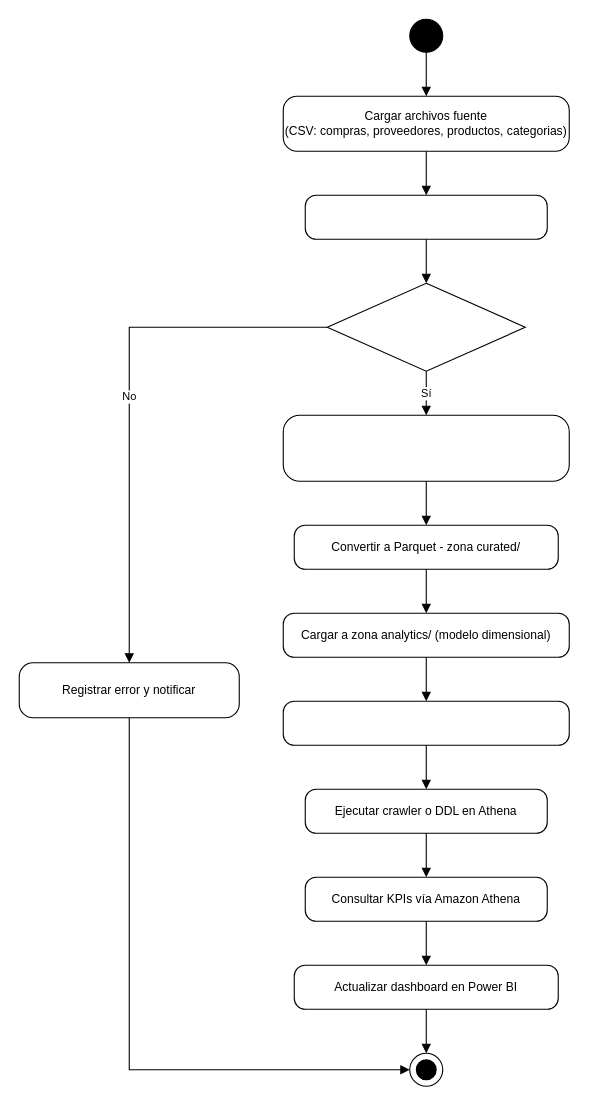
This 589x1106 diagram has some shape labels left out. Each missing label, with the centre of its shape:
"Registrar tablas en AWS Glue Data Catalog" belongs at [425,722].
"Subir a S3 - zona raw/" belongs at [425,216].
"Transformar y calcular campos derivados (fecha_id, monto_total)" belongs at [425,447].
"¿Datos válidos?" belongs at [425,326].
